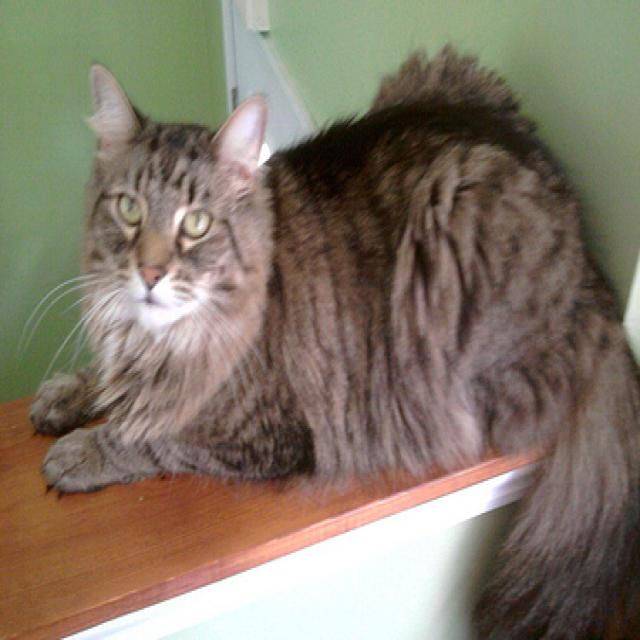Maine Coon: (24, 43, 640, 640)
